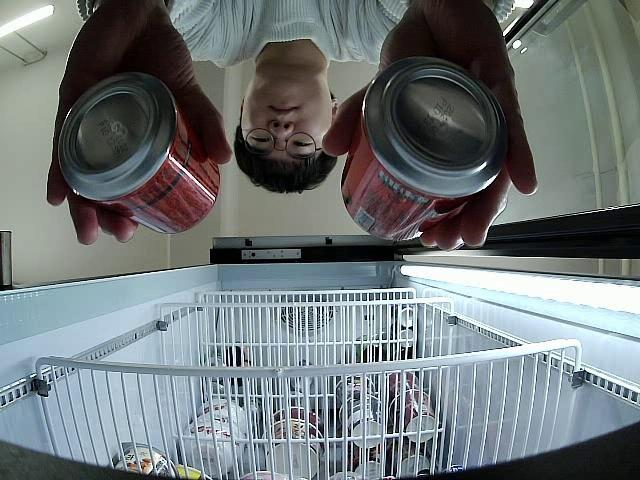11_cocaColaZero: (344, 57, 504, 243), (58, 74, 220, 234)
